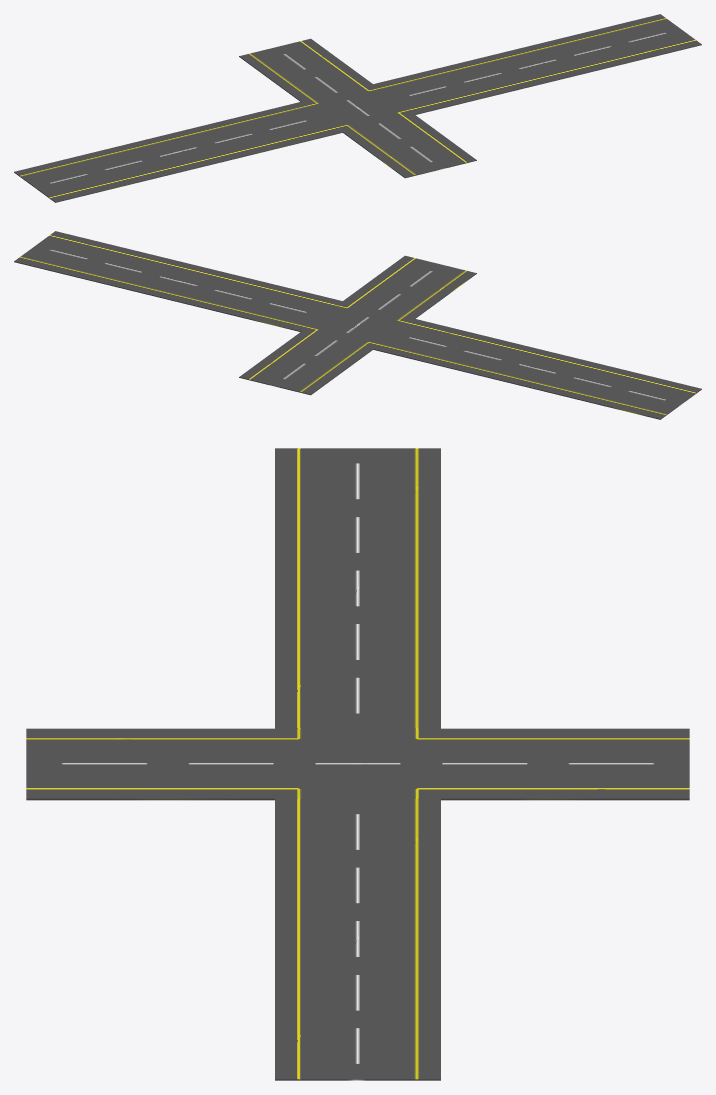
File: straightroadand intersection X.glb
The picture shows the model from 3 angles, top to bottom: view 1: azimuth 30°, elevation 25°; view 2: azimuth 150°, elevation 25°; view 3: azimuth 270°, elevation 25°; orthographic projection. The views are drawn at different scales.
Parts seen in each view (by area): view 1: Cube; view 2: Cube; view 3: Cube.
Part boxes in pixels (bbox=[...]): Cube: bbox=[14, 14, 701, 202]; Cube: bbox=[14, 231, 701, 419]; Cube: bbox=[26, 448, 689, 1080].
Bounding box in the file's own units: 180 × 0.2 × 80.
2 materials, 2 textured.
